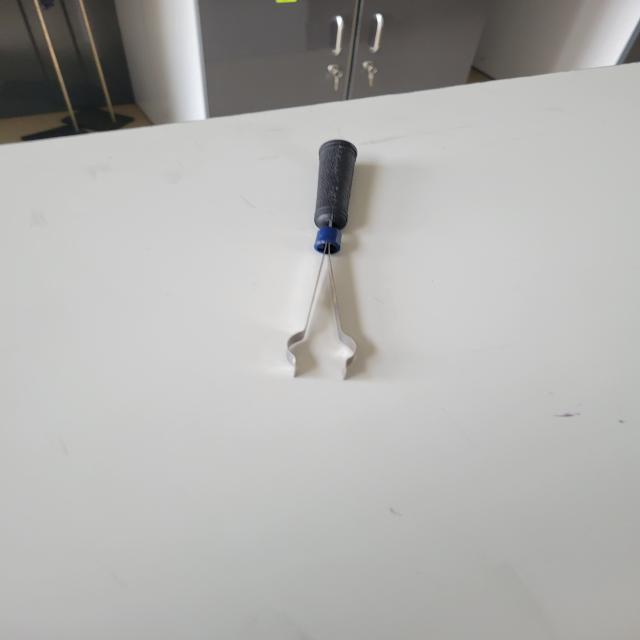TestTube_Holder: (258, 103, 394, 430)
